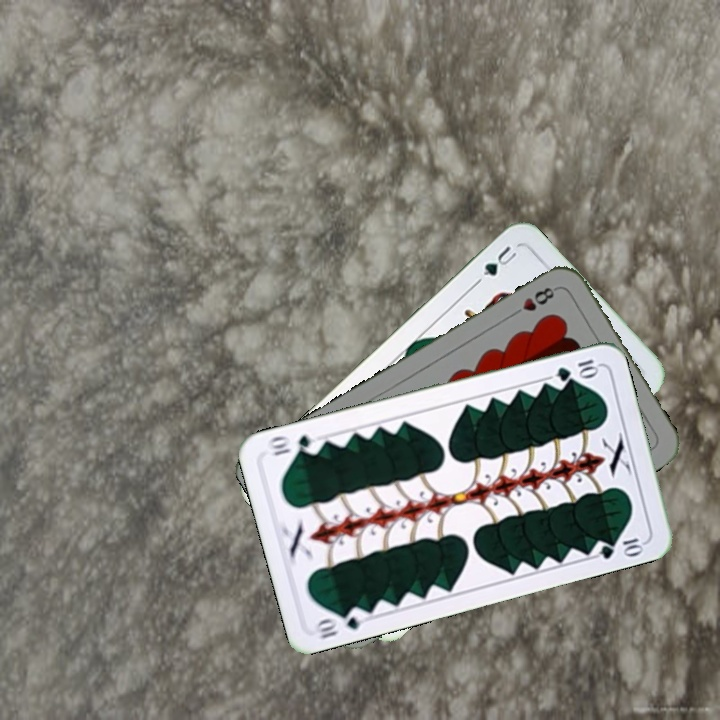G10: (310, 603, 370, 642), (552, 355, 601, 384)
GU: (479, 241, 520, 279)
H8: (507, 283, 560, 320)
